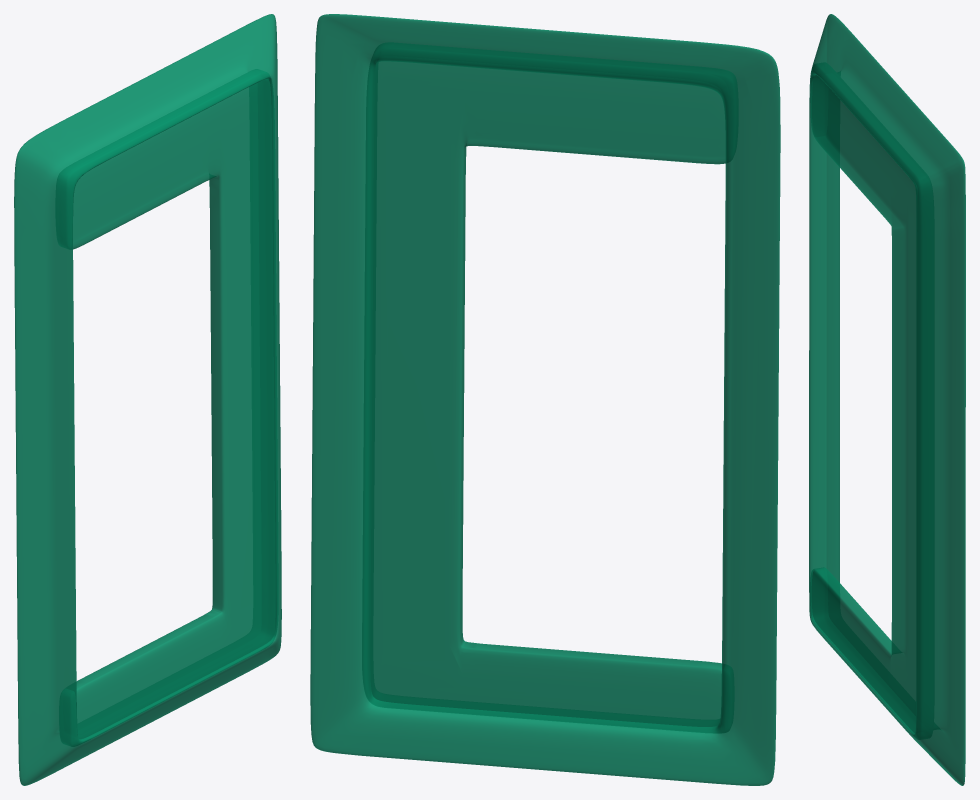
File: cassette-door.obj
The picture shows the model from 3 angles, left to right: view 1: azimuth 30°, elevation 25°; view 2: azimuth 150°, elevation 25°; view 3: azimuth 270°, elevation 25°; orthographic projection. The views are drawn at different scales.
Parts seen in each view (by area): view 1: cube-061_cube-073; view 2: cube-061_cube-073; view 3: cube-061_cube-073.
Part boxes in pixels (x1,y1,x2,y2): cube-061_cube-073: (14, 14, 281, 785); cube-061_cube-073: (310, 14, 780, 785); cube-061_cube-073: (809, 14, 965, 785).
Size of the model in its own units: 0.3675 by 0.6726 by 0.1517.
